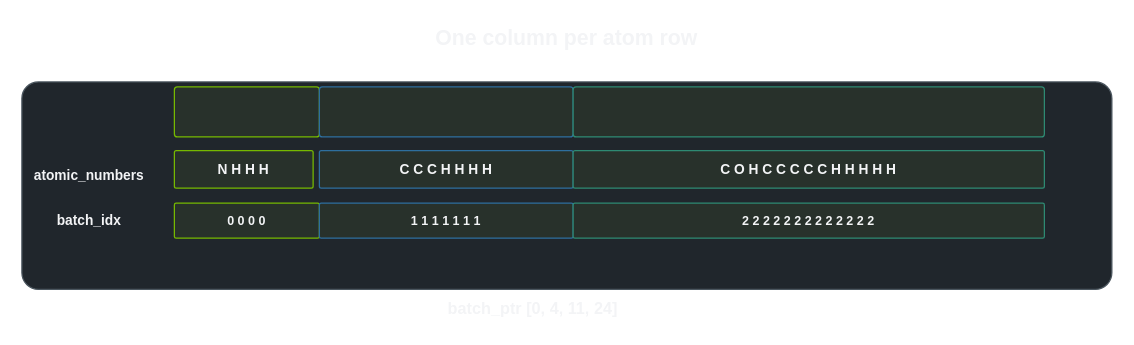
The diagram is 1134 pixels wide and 345 high, and some of its shapes have lost their labels. Each missing label, with the centre of its shape:
0 · Ammonia rows 0:4: the point at 246,111
1 · Propyne rows 4:11: the point at 445,111
2 · Phenol rows 11:24: the point at 808,111
